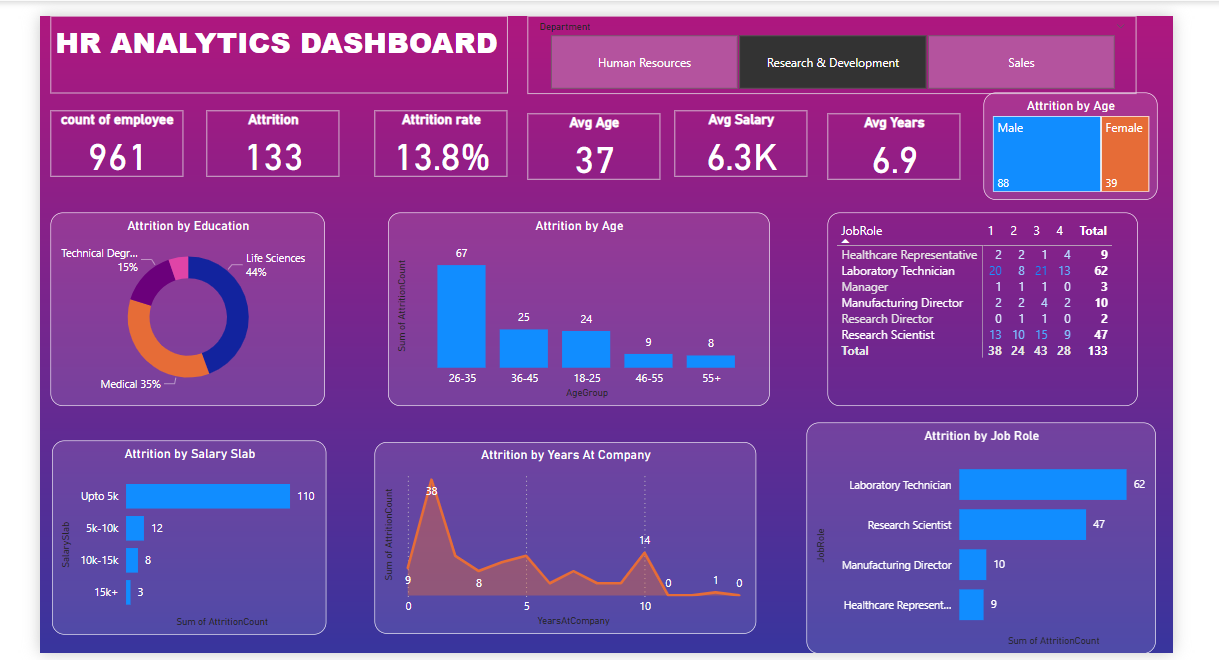

The page's visual inventory and layout, read from the dashboard file:
{"tool":"powerbi","page":{"name":"Page 1","canvas":[1280,720],"ordinal":0},"visuals":[{"type":"card","title":"count of employee","fields":{"Values":["CountNonNull(HR_Analytics.EmpID)"]},"box":[12.2,107.3,149.9,74.9],"z":0},{"type":"card","title":"Attrition","fields":{"Values":["Sum(HR_Analytics.AttritionCount)"]},"box":[188.4,107.3,149.9,74.9],"z":1000},{"type":"card","title":"Attrition rate","fields":{"Values":["HR_Analytics.AttritionRate"]},"box":[378.7,107.3,149.9,74.9],"z":2000},{"type":"card","title":"Avg Age","fields":{"Values":["Avg(HR_Analytics.Age)"]},"box":[550.9,109.4,149.9,74.9],"z":3000},{"type":"card","title":"Avg Salary","fields":{"Values":["Avg(HR_Analytics.MonthlyIncome)"]},"box":[717,107.3,149.9,74.9],"z":4000},{"type":"card","title":"Avg Years","fields":{"Values":["Avg(HR_Analytics.YearsAtCompany)"]},"box":[889.1,109.4,149.9,74.9],"z":5000},{"type":"donutChart","title":"Attrition by Education","fields":{"Category":["HR_Analytics.EducationField"],"Y":["Sum(HR_Analytics.AttritionCount)"]},"box":[12.2,222.8,309.9,218.7],"z":6000},{"type":"columnChart","title":"Attrition by Age","fields":{"Category":["HR_Analytics.AgeGroup"],"Y":["Sum(HR_Analytics.AttritionCount)"]},"box":[392.9,222.8,431.4,218.7],"z":7000},{"type":"pivotTable","fields":{"Rows":["HR_Analytics.JobRole"],"Columns":["HR_Analytics.JobSatisfaction"],"Values":["Sum(HR_Analytics.AttritionCount)"]},"box":[889.1,222.8,350.4,218.7],"z":8000},{"type":"barChart","title":"Attrition by Salary Slab","fields":{"Category":["HR_Analytics.SalarySlab"],"Y":["Sum(HR_Analytics.AttritionCount)"]},"box":[12.7,480.4,310.2,219.5],"z":9000},{"type":"barChart","title":"Attrition by Job Role","fields":{"Y":["Sum(HR_Analytics.AttritionCount)"],"Category":["HR_Analytics.JobRole"]},"box":[866.8,459.7,394.9,261.3],"z":10000},{"type":"areaChart","title":"Attrition by Years At Company","fields":{"Category":["HR_Analytics.YearsAtCompany"],"Y":["Sum(HR_Analytics.AttritionCount)"]},"box":[378.7,482,431.4,216.7],"z":11000},{"type":"treemap","title":"Attrition by Age","fields":{"Group":["HR_Analytics.Gender"],"Values":["Sum(HR_Analytics.AttritionCount)"]},"box":[1065.3,87.1,196.5,121.5],"z":12000},{"type":"slicer","fields":{"Values":["HR_Analytics.Department"]},"box":[550.9,0,688.6,87.1],"z":13000},{"type":"textbox","box":[12.2,0,516.5,87.1],"z":14000}]}

Visuals, with their boxes in screenshot pixels (x1, y1, x2, y2):
"count of employee" card: bbox=(40, 110, 175, 177)
"Attrition" card: bbox=(199, 110, 335, 177)
"Attrition rate" card: bbox=(371, 110, 507, 177)
"Avg Age" card: bbox=(527, 112, 662, 179)
"Avg Salary" card: bbox=(677, 110, 813, 177)
"Avg Years" card: bbox=(833, 112, 968, 179)
"Attrition by Education" donutChart: bbox=(40, 214, 320, 412)
"Attrition by Age" columnChart: bbox=(384, 214, 774, 412)
pivotTable - HR_Analytics.JobRole x HR_Analytics.JobSatisfaction: bbox=(833, 214, 1150, 412)
"Attrition by Salary Slab" barChart: bbox=(40, 447, 321, 646)
"Attrition by Job Role" barChart: bbox=(812, 428, 1170, 659)
"Attrition by Years At Company" areaChart: bbox=(371, 449, 761, 645)
"Attrition by Age" treemap: bbox=(992, 91, 1170, 201)
slicer - HR_Analytics.Department: bbox=(527, 13, 1150, 91)
textbox: bbox=(40, 13, 507, 91)
